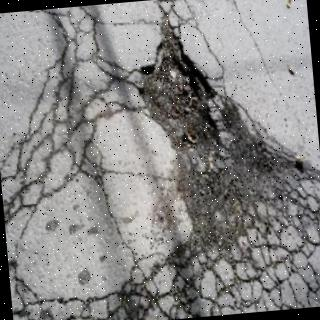pothole: (139, 13, 310, 256)
